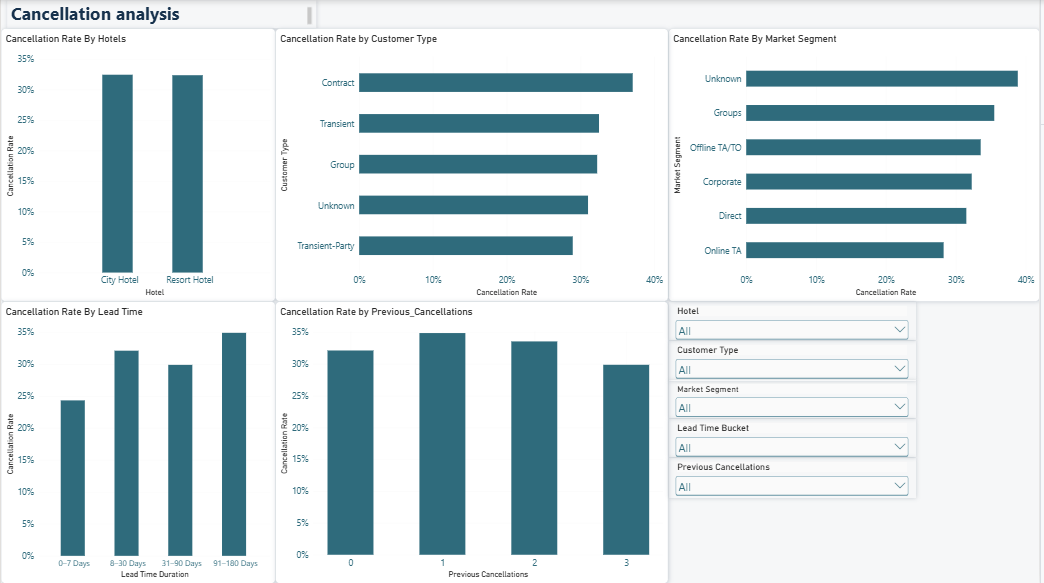

Layout of this report page (visuals, bound fields, positions):
{"tool":"powerbi","page":{"name":"Page 4","canvas":[1920,1080],"ordinal":3},"visuals":[{"type":"textbox","box":[11.3,0,323.2,53.9],"z":0},{"type":"clusteredColumnChart","title":"Cancellation Rate By Hotels","fields":{"Category":["Hotel Bookings - Raw.Hotel"],"Y":["Hotel Bookings - Raw.Cancellation Rate"]},"box":[0,53.9,507.4,504.6],"z":1000},{"type":"clusteredBarChart","title":"Cancellation Rate By Market Segment","fields":{"Category":["Hotel Bookings - Raw.Market_Segment"],"Y":["Hotel Bookings - Raw.Cancellation Rate"]},"box":[1233.1,53.9,686,504.6],"z":2000},{"type":"clusteredBarChart","title":"Cancellation Rate by Customer Type","fields":{"Category":["Hotel Bookings - Raw.Customer_Type"],"Y":["Hotel Bookings - Raw.Cancellation Rate"]},"box":[507.4,53.9,725.7,504.6],"z":3000},{"type":"clusteredColumnChart","title":"Cancellation Rate By Lead Time","fields":{"Category":["Hotel Bookings - Raw.Lead Time Bucket"],"Y":["Hotel Bookings - Raw.Cancellation Rate"]},"box":[0,558.4,507.4,521.6],"z":4000},{"type":"clusteredColumnChart","fields":{"Category":["Hotel Bookings - Raw.Previous_Cancellations"],"Y":["Hotel Bookings - Raw.Cancellation Rate"]},"box":[507.4,558.4,725.7,521.6],"z":5000},{"type":"slicer","fields":{"Values":["Hotel Bookings - Raw.Hotel"]},"box":[1233.1,558.4,456.4,70.9],"z":6000},{"type":"slicer","fields":{"Values":["Hotel Bookings - Raw.Customer_Type"]},"box":[1233.1,629.3,456.4,73.7],"z":7000},{"type":"slicer","fields":{"Values":["Hotel Bookings - Raw.Market_Segment"]},"box":[1233.1,703,456.4,70.9],"z":8000},{"type":"slicer","fields":{"Values":["Hotel Bookings - Raw.Lead Time Bucket"]},"box":[1233.1,773.9,456.4,70.9],"z":9000},{"type":"slicer","fields":{"Values":["Hotel Bookings - Raw.Previous_Cancellations"]},"box":[1233.1,844.7,456.4,73.7],"z":10000}]}

Visuals, with their boxes in screenshot pixels (x1, y1, x2, y2), scaled from the page's 1920x1080 canvas onto the 1044x583 screenshot:
textbox: left=6, top=0, right=182, bottom=29
"Cancellation Rate By Hotels" clusteredColumnChart: left=0, top=29, right=276, bottom=301
"Cancellation Rate By Market Segment" clusteredBarChart: left=670, top=29, right=1043, bottom=301
"Cancellation Rate by Customer Type" clusteredBarChart: left=276, top=29, right=670, bottom=301
"Cancellation Rate By Lead Time" clusteredColumnChart: left=0, top=301, right=276, bottom=582
clusteredColumnChart - Hotel Bookings - Raw.Previous_Cancellations x Hotel Bookings - Raw.Cancellation Rate: left=276, top=301, right=670, bottom=582
slicer - Hotel Bookings - Raw.Hotel: left=670, top=301, right=919, bottom=340
slicer - Hotel Bookings - Raw.Customer_Type: left=670, top=340, right=919, bottom=379
slicer - Hotel Bookings - Raw.Market_Segment: left=670, top=379, right=919, bottom=418
slicer - Hotel Bookings - Raw.Lead Time Bucket: left=670, top=418, right=919, bottom=456
slicer - Hotel Bookings - Raw.Previous_Cancellations: left=670, top=456, right=919, bottom=496
